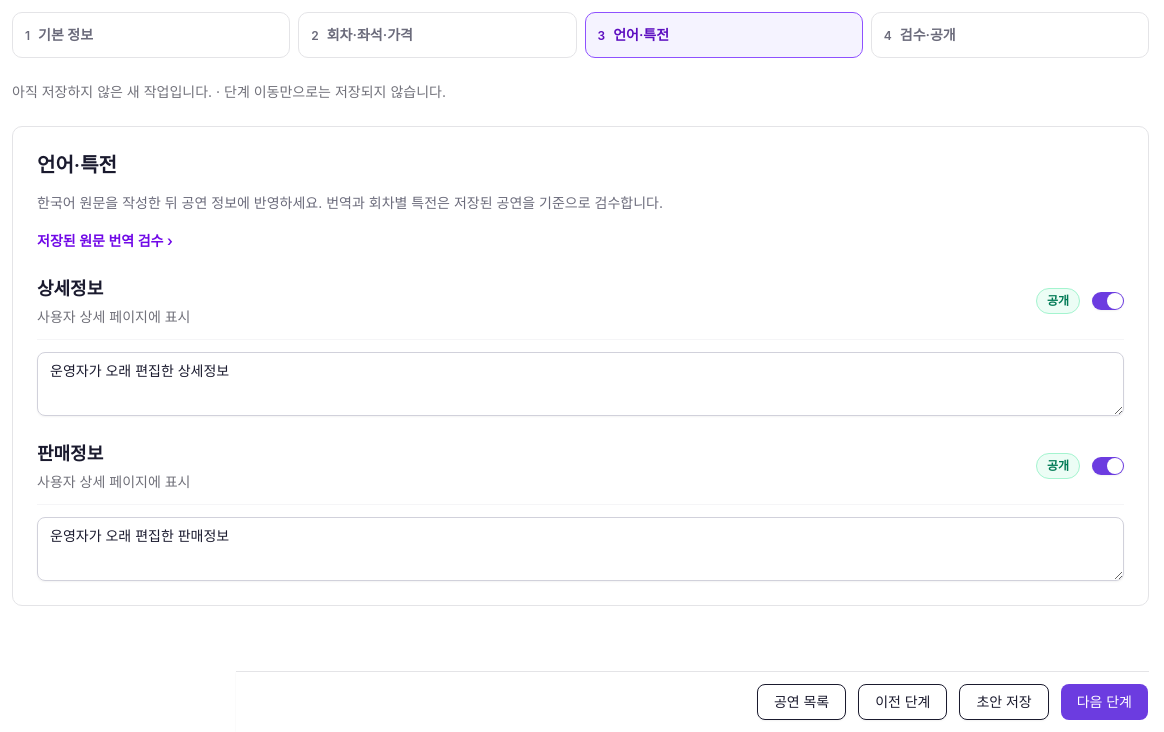
Scenario: PerformanceForm copy visibility controls › lets an operator review the final step before applying anything
This screenshot has width=1164, height=732.
Click the button "다음 단계" at (1104, 702), box top-left (1061, 684), bottom-right (1148, 720)
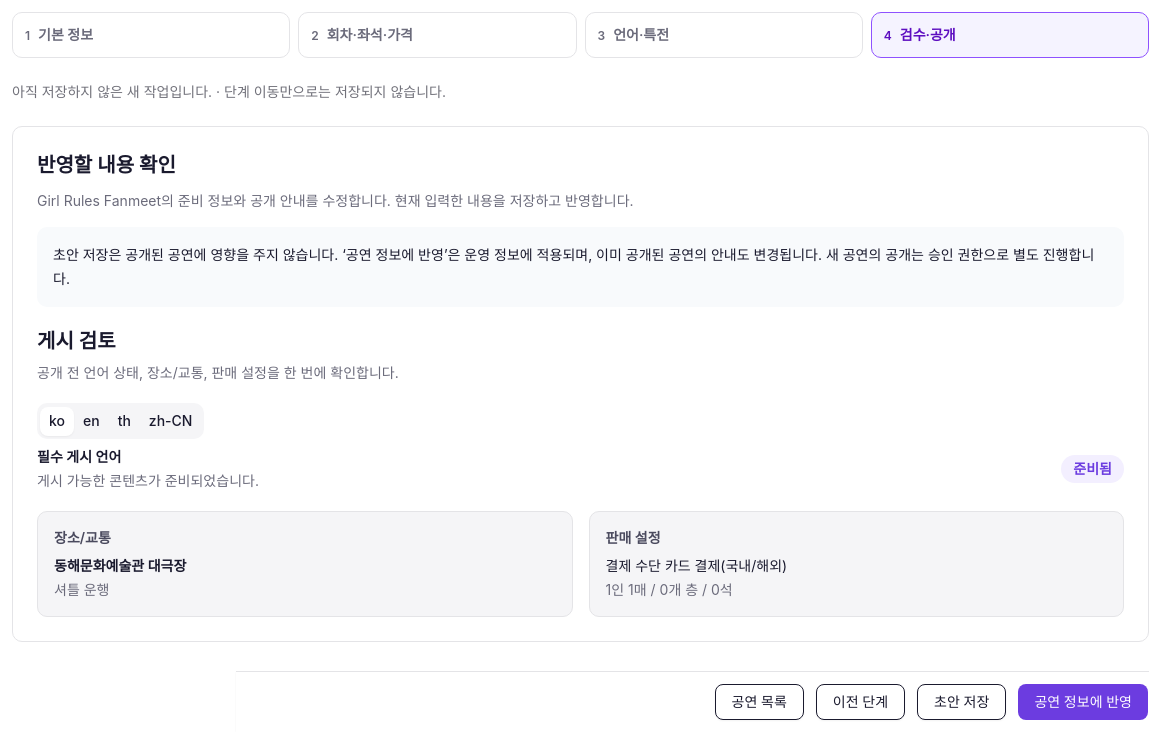
Check: the heading "반영할 내용 확인" is shown, box top-left (37, 153), bottom-right (176, 177)
